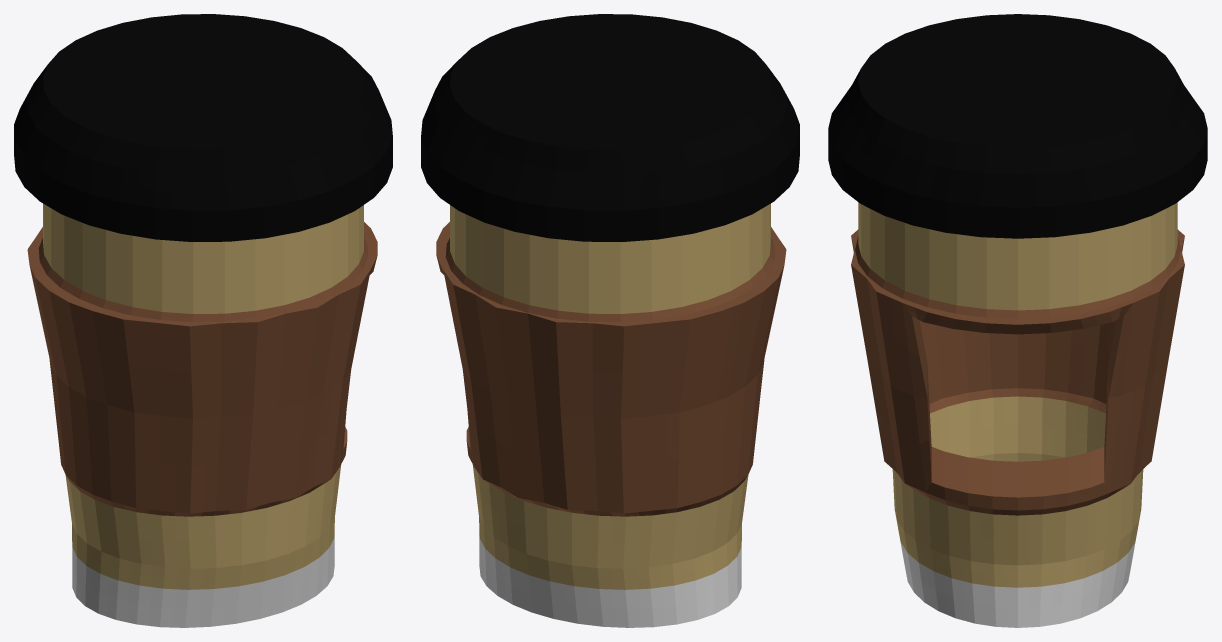
The model's file is Coffee_Cup.fbx.
3 views of the same model, side by side, from view 1: azimuth 30°, elevation 25°; view 2: azimuth 150°, elevation 25°; view 3: azimuth 270°, elevation 25° (orthographic).
Parts seen in each view (by area): view 1: Cylinder; view 2: Cylinder; view 3: Cylinder.
Boxes of the visible parts, x1,y1,x2,y2 form: Cylinder: (14, 14, 392, 627); Cylinder: (421, 14, 799, 627); Cylinder: (828, 14, 1207, 627).
Size of the model in its own units: 14557 by 21045 by 14780.
